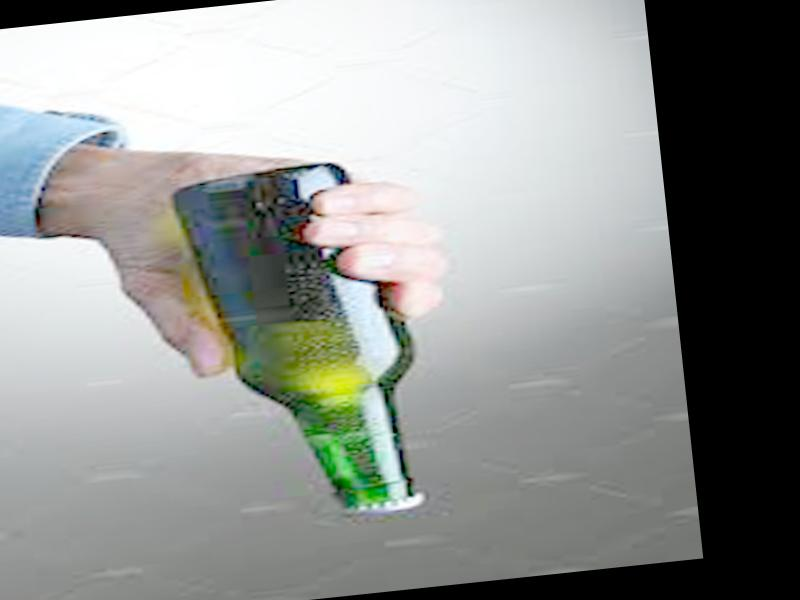Beer: (166, 156, 441, 527)
